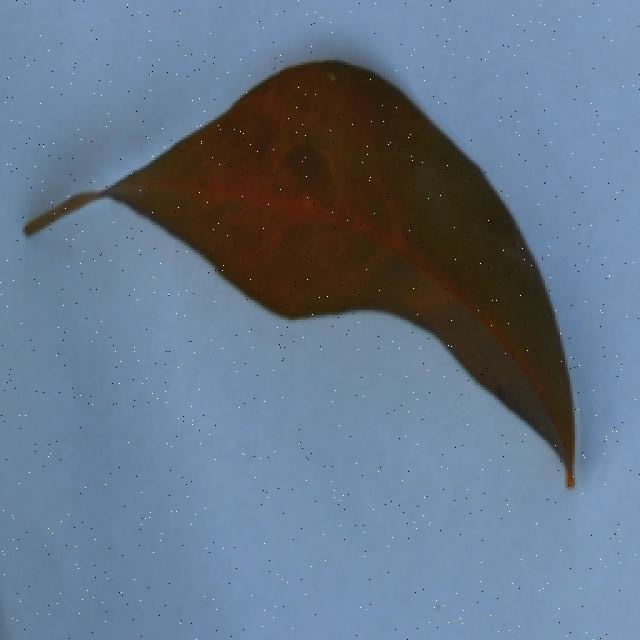greening: (16, 45, 602, 495)
